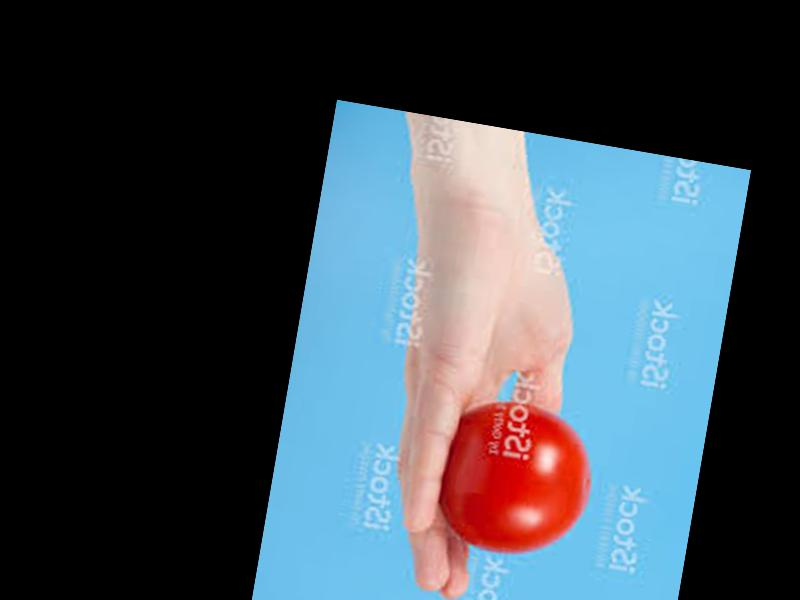Tomato: (433, 394, 598, 565)
